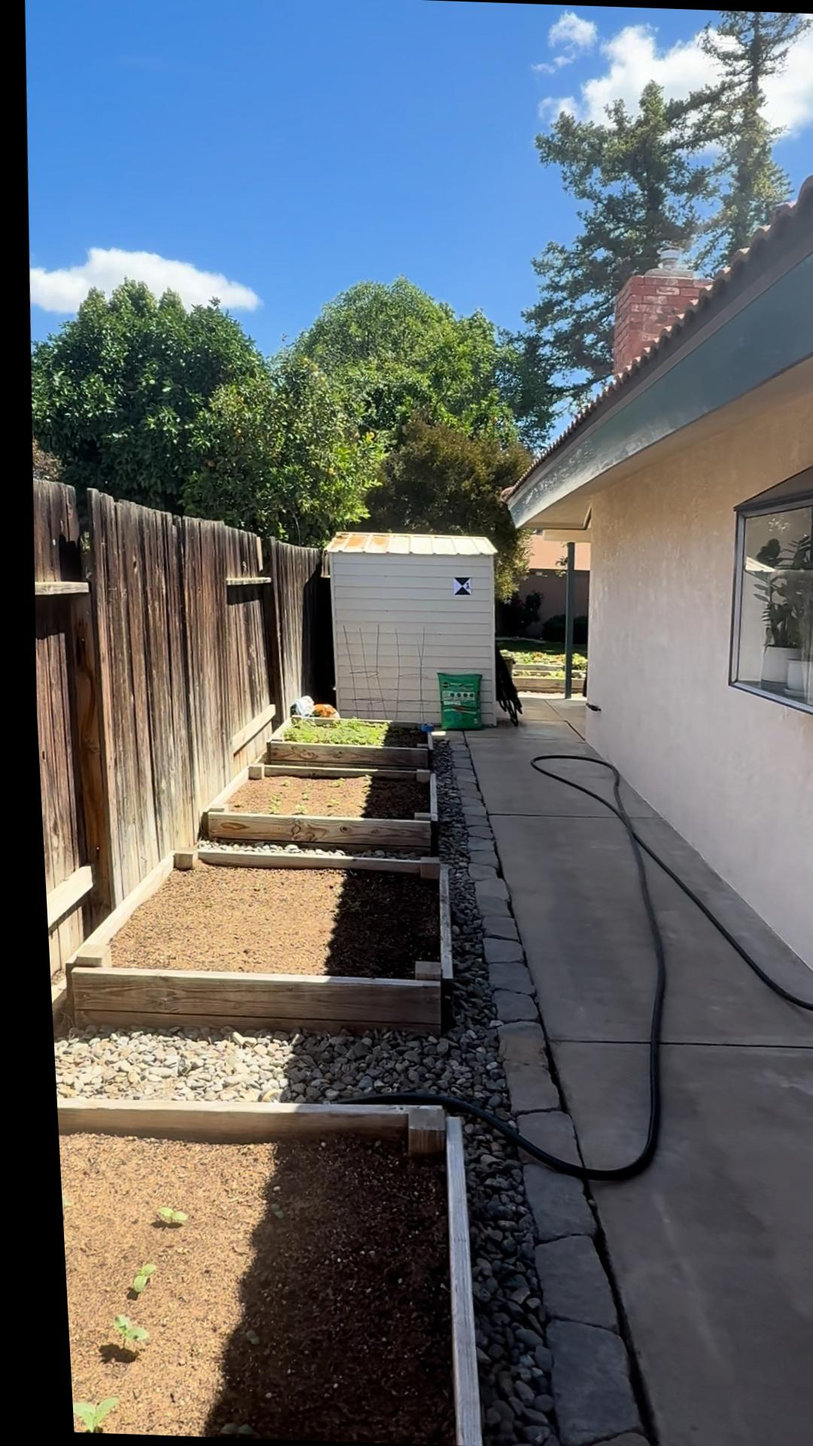target1: (453, 577, 473, 595)
